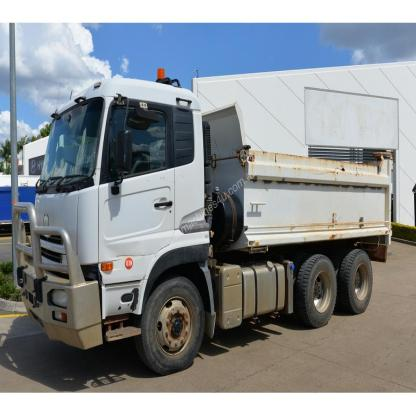dump_truck: (7, 72, 394, 369)
